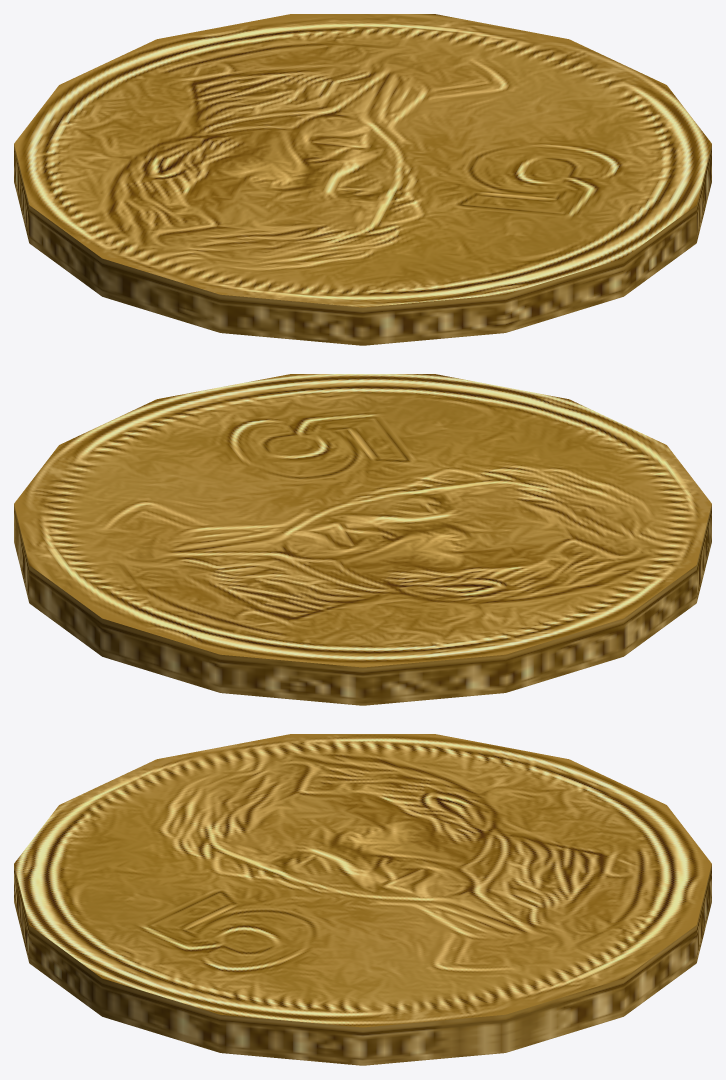
The model's file is CoinSingle.fbx.
3 views of the same model, one above another, from view 1: azimuth 30°, elevation 25°; view 2: azimuth 150°, elevation 25°; view 3: azimuth 270°, elevation 25° (orthographic).
Visible parts, largest first — view 1: CoinSingle_Layer1; view 2: CoinSingle_Layer1; view 3: CoinSingle_Layer1.
Part boxes in pixels (left/top/right/bottom): CoinSingle_Layer1: left=14, top=14, right=711, bottom=345; CoinSingle_Layer1: left=14, top=374, right=711, bottom=705; CoinSingle_Layer1: left=14, top=734, right=711, bottom=1065.
Bounding box in the file's own units: 144 × 8.76 × 145.
